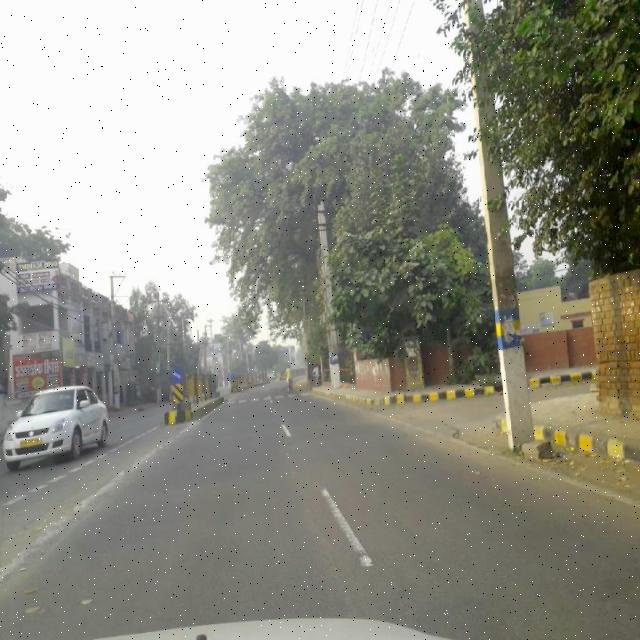D44: (318, 482, 374, 570)
